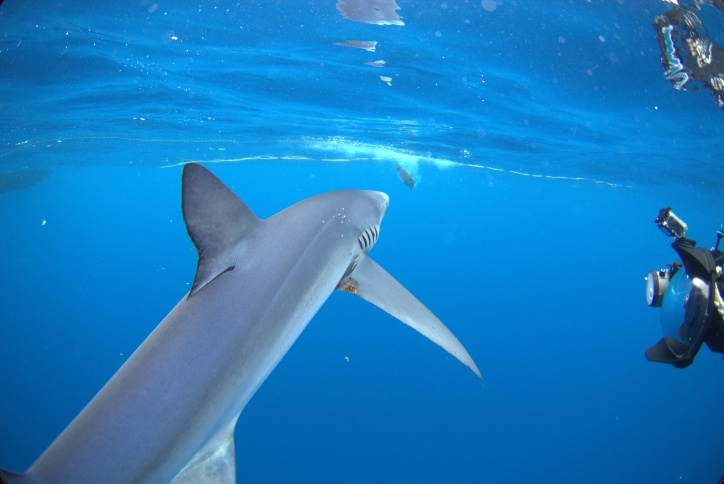Azul: (1, 133, 496, 484)
